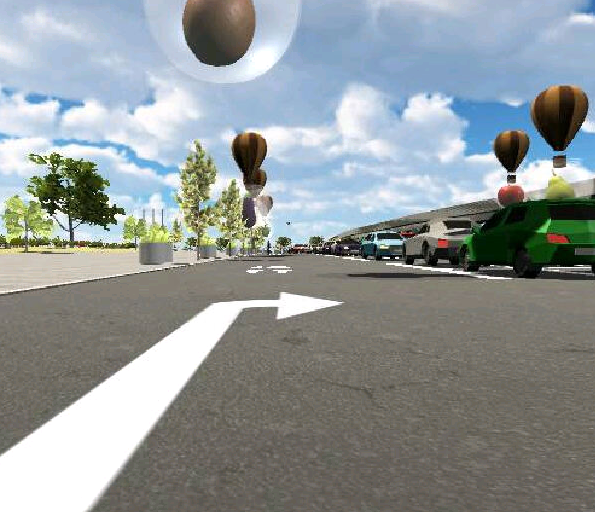ground_right: (194, 290, 345, 320)
